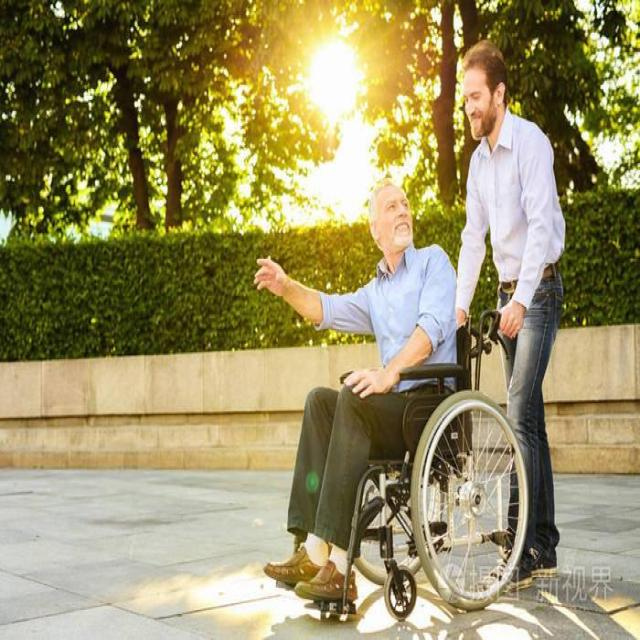wheelchairs: (300, 306, 530, 630)
